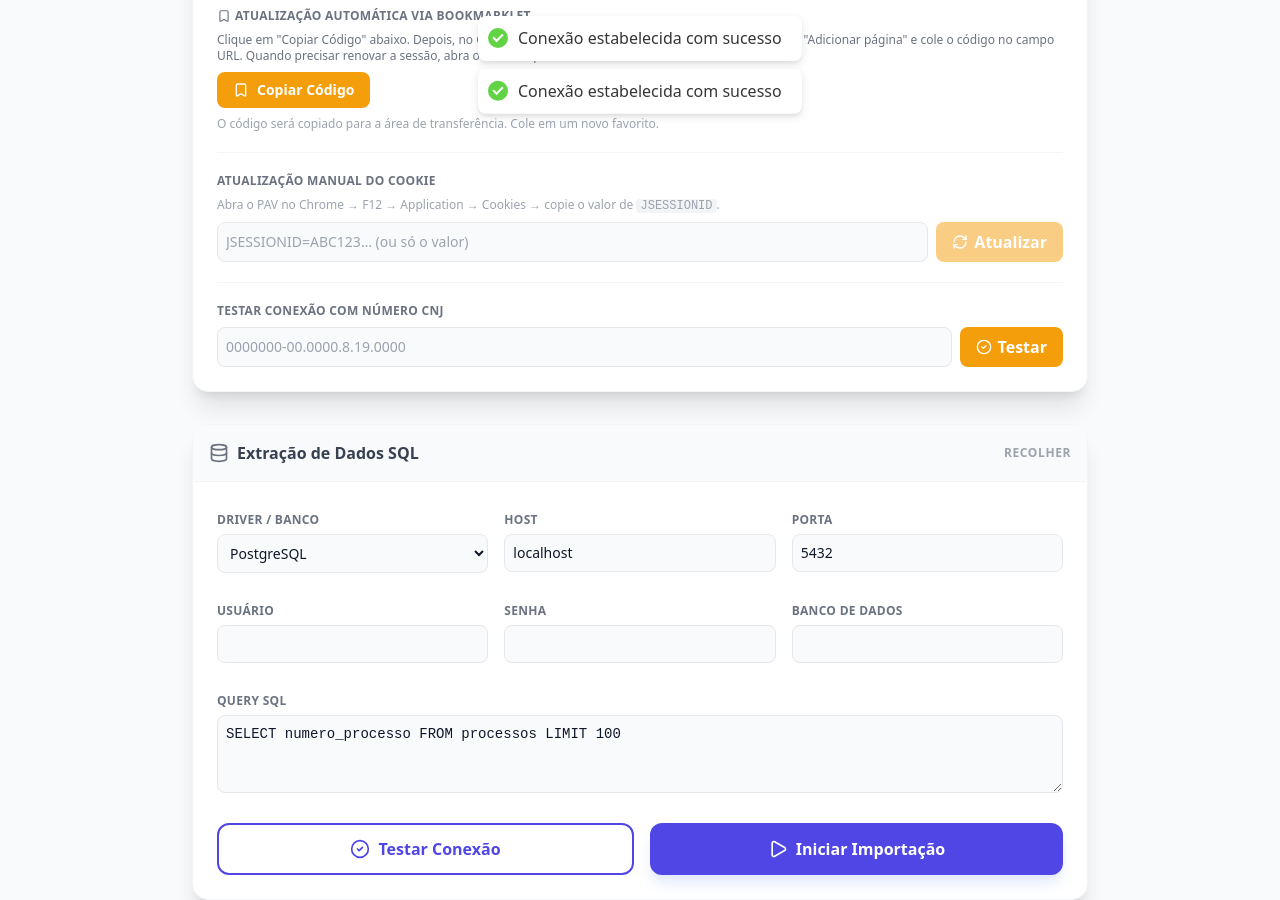
Settings Component › Test Connection Functionality › TC-15: shows error toast on connection failure
(page scrolled)
What coordinates should you click on to do the following:
click the button "Testar Conexão"
I would click on:
 (426, 849)
Its box is [217,823,634,875].
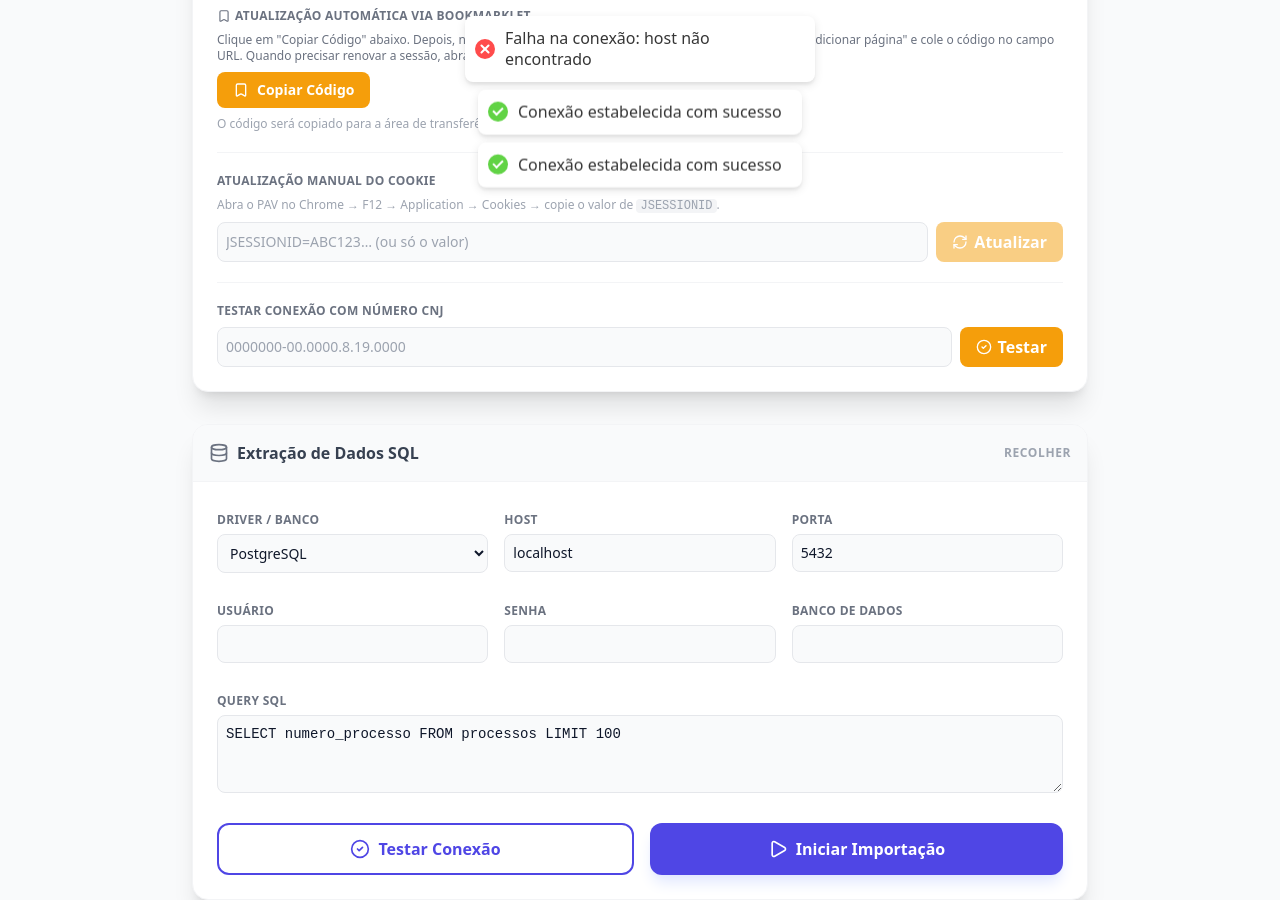
Now the text "Falha na conexão: host não encontrado" is shown, box [505,27,710,70]
